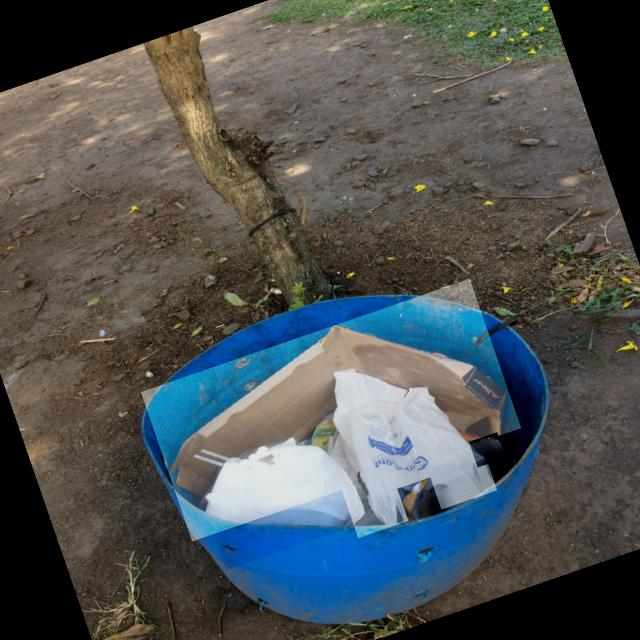Cigarette: (216, 323, 225, 328)
Cup: (469, 439, 503, 464)
Food Carton: (169, 325, 509, 495), (309, 415, 339, 452)
Plastic film: (403, 477, 433, 521)
Single-use carrier bag: (330, 367, 495, 525), (206, 437, 365, 526)
Straw: (194, 454, 225, 466), (201, 448, 231, 460)
